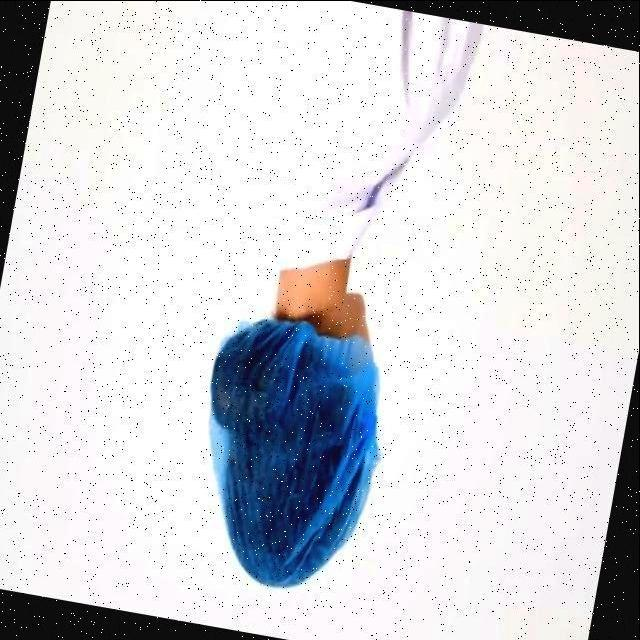gloves: (212, 339, 360, 592)
